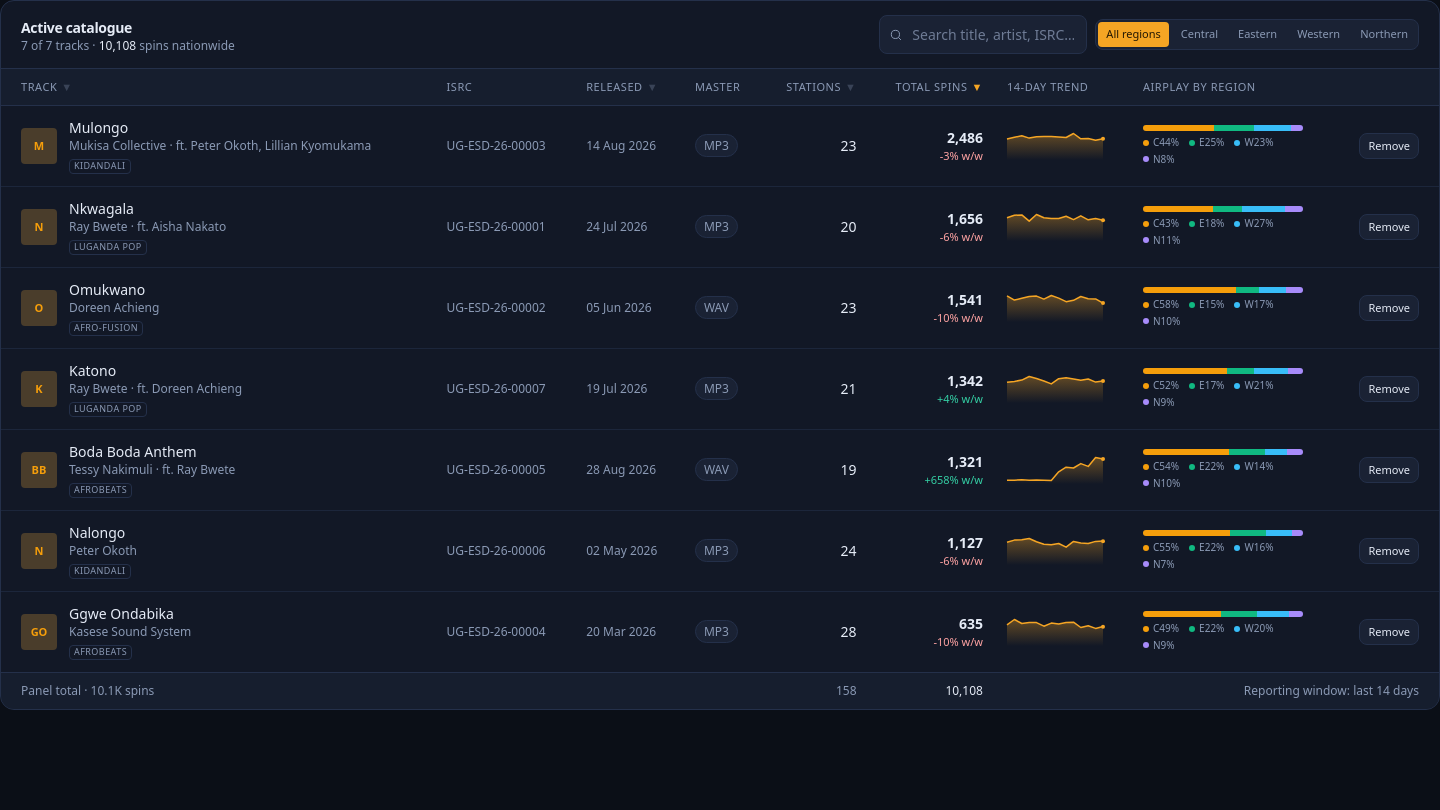
Scenario: AirplayTable › filters by search text
This screenshot has width=1440, height=810.
Type "Ggwe" into the field named "Search the catalogue".
click(983, 34); type("Ggwe")  # box x1=879 y1=15 x2=1087 y2=54
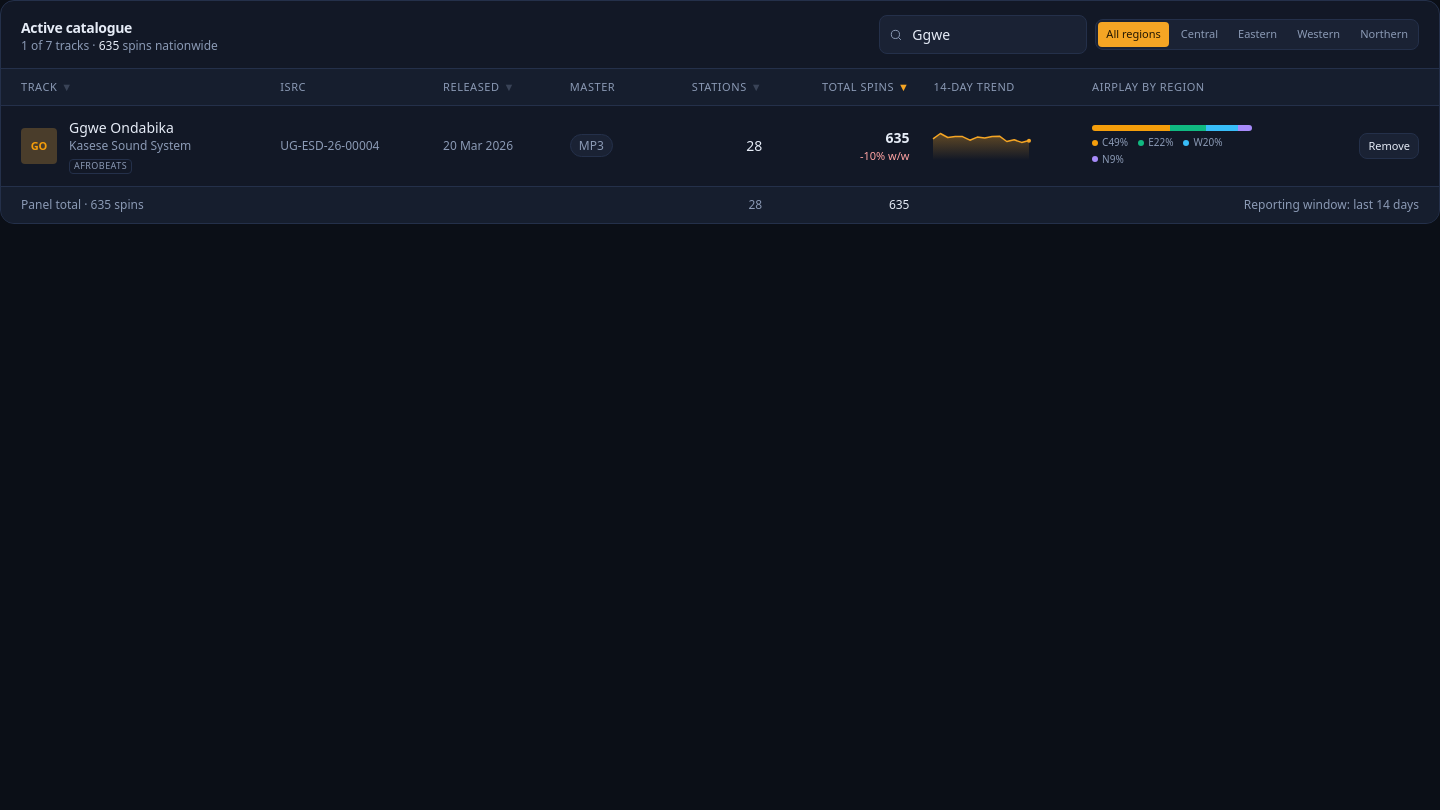
Expected: the text "Ggwe Ondabika" is shown, x1=69 y1=118 x2=191 y2=138
Result: the text "Nkwagala" is gone
